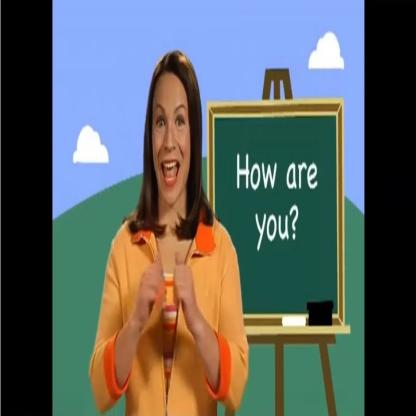HowAreYou: (127, 243, 214, 367)
